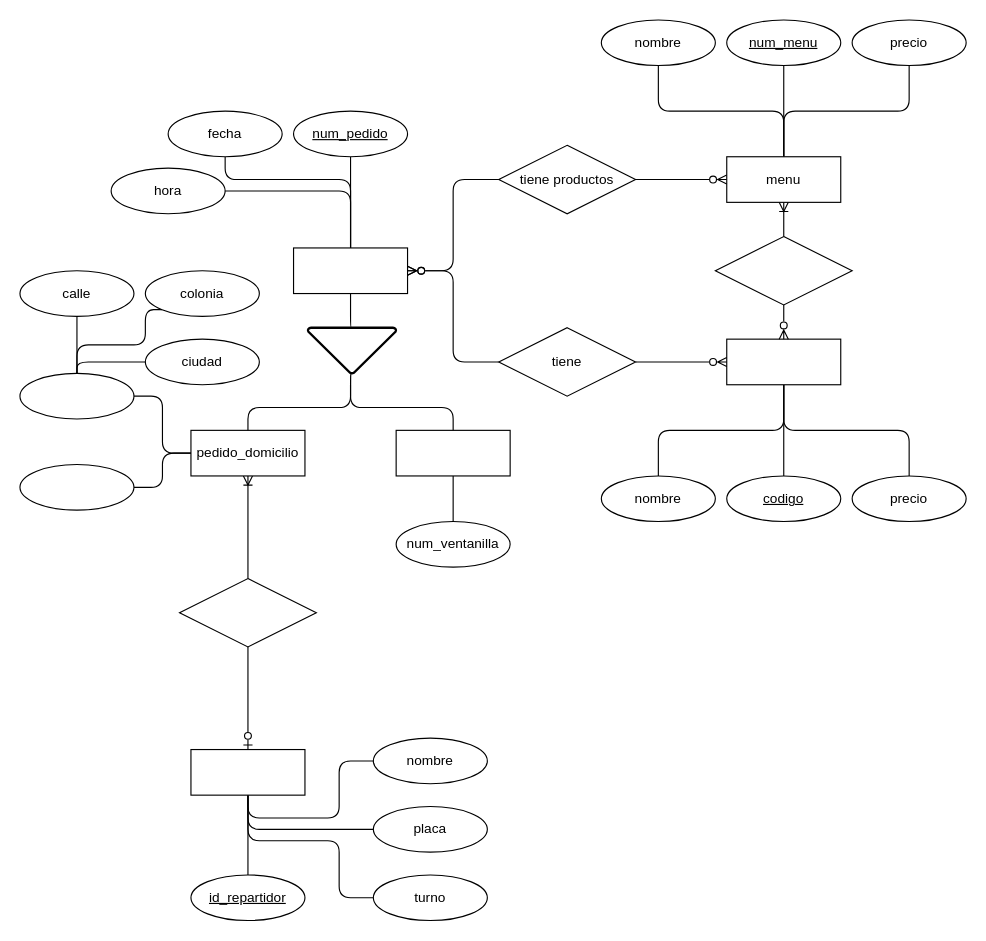
The diagram is 986 pixels wide and 941 high, and some of its shapes have lost their labels. The shapes that lost their labels are listed below. From the top down, each one's centre as x and y in pixels, then its label:
point (350, 270): pedido
point (783, 270): contiene
point (783, 361): producto
point (76, 395): direccion
point (452, 452): pedido_ventanilla
point (76, 486): telefono
point (247, 612): entrega
point (247, 771): repartidor
